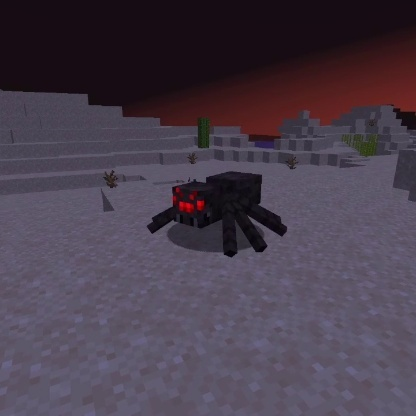spider: (144, 168, 290, 261)
